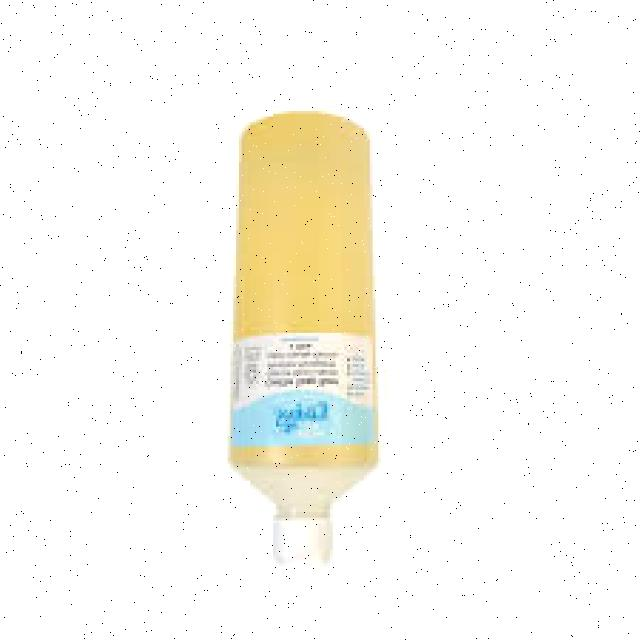liquid soap: (222, 110, 386, 575)
